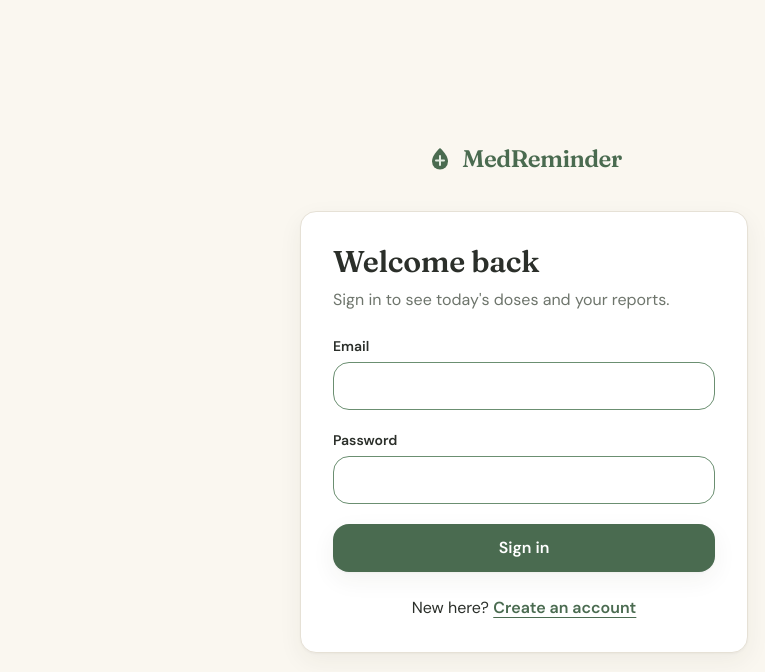
Scenario: LoginPage › ignores a "from" that is not an in-app path
In the field labelled "Email": (524, 386) [333,362,715,410], type "  asha@example.com "
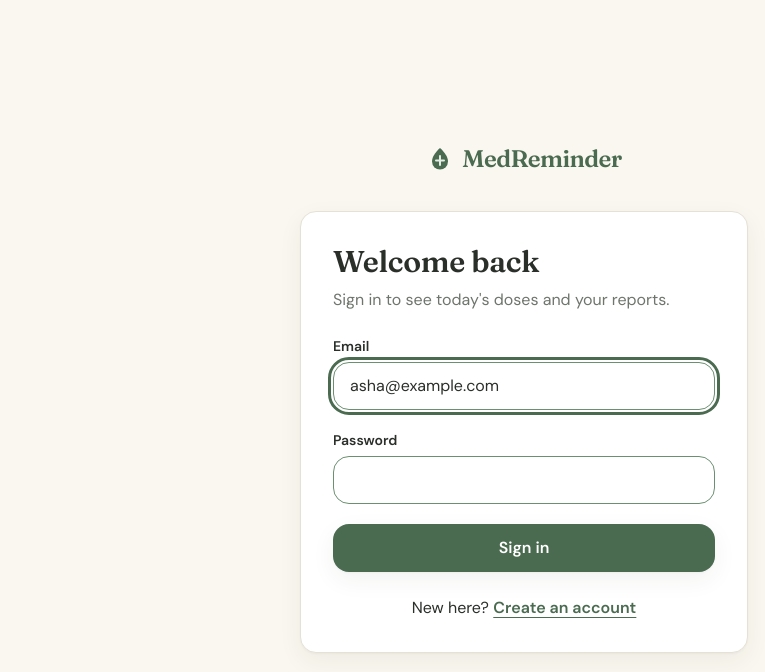
In the password field labelled "Password": (524, 480) [333,456,715,504], type "secret-pass"
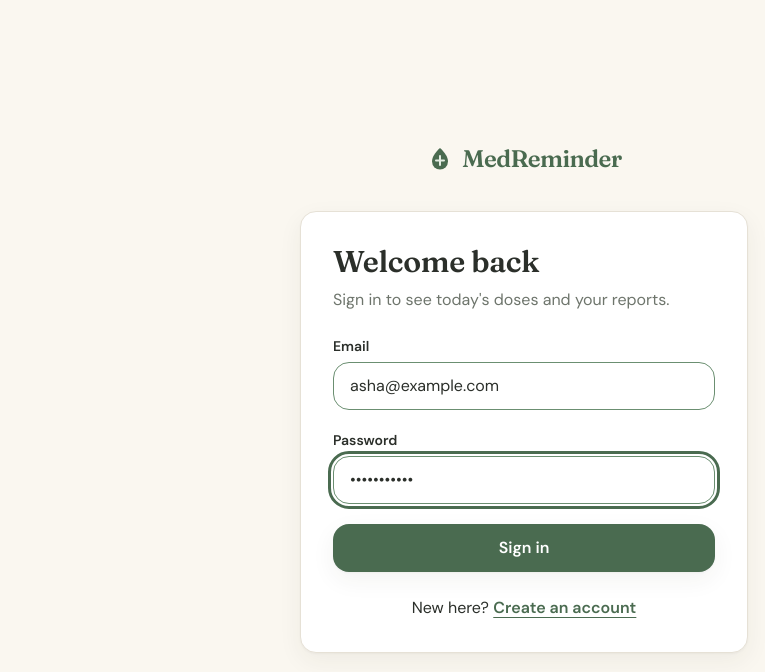
Click the button "Sign in": (524, 548) [333,524,715,572]
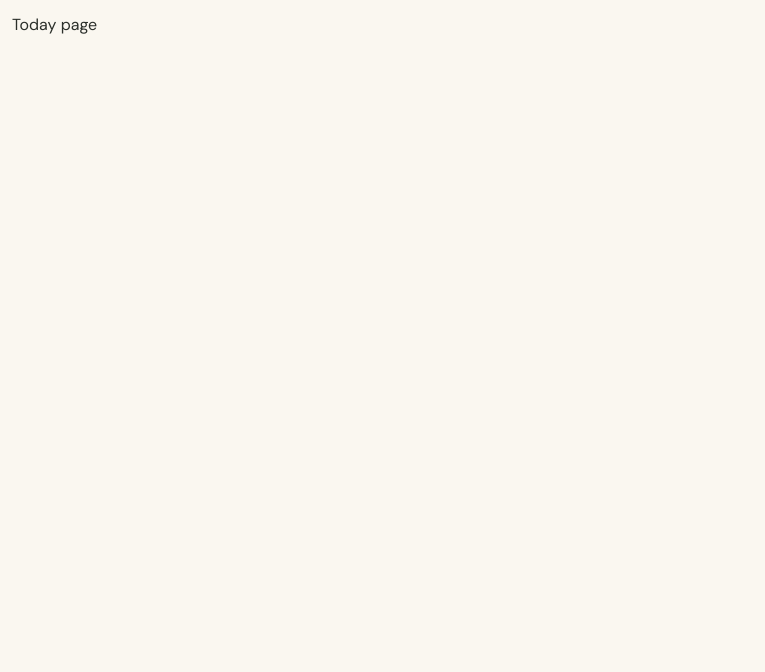
Expected: the text "Today page" is shown, [12,14,97,35]
